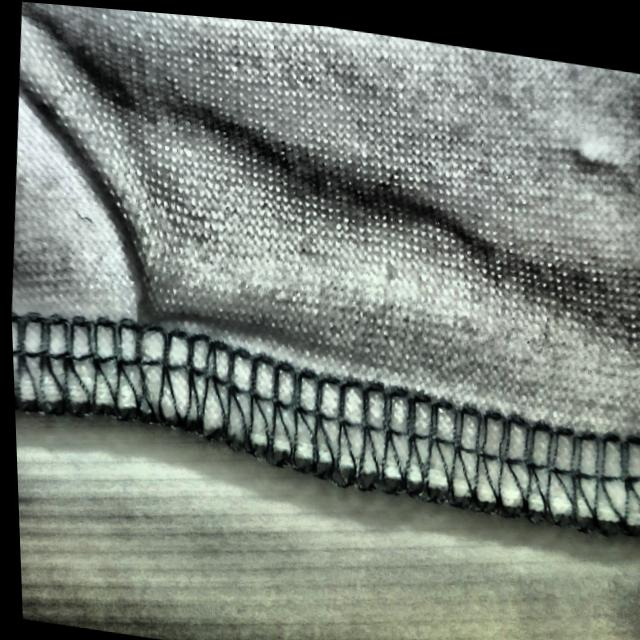seam: (85, 197, 282, 476)
